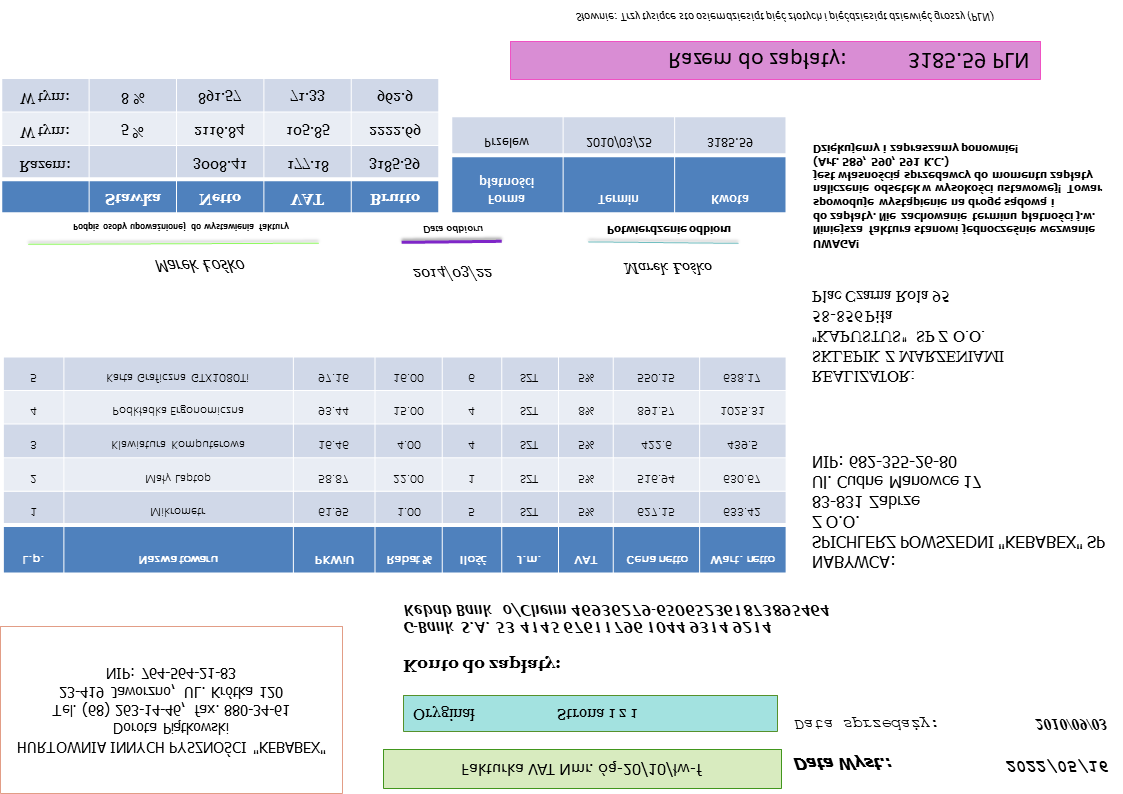Table: (2, 356, 787, 574), (1, 77, 441, 214), (450, 116, 787, 214)
TextBox: (808, 452, 1108, 571), (809, 140, 1105, 253), (15, 662, 329, 758), (809, 287, 1008, 387), (400, 599, 831, 637), (666, 46, 1032, 73), (573, 7, 997, 26), (458, 759, 703, 781), (411, 705, 640, 724), (399, 653, 564, 678), (68, 219, 293, 236), (791, 716, 938, 733), (1001, 756, 1109, 777), (790, 755, 895, 775), (604, 222, 735, 238), (153, 257, 247, 277), (409, 262, 496, 283), (621, 258, 714, 277), (1032, 717, 1107, 733), (419, 222, 485, 238)
